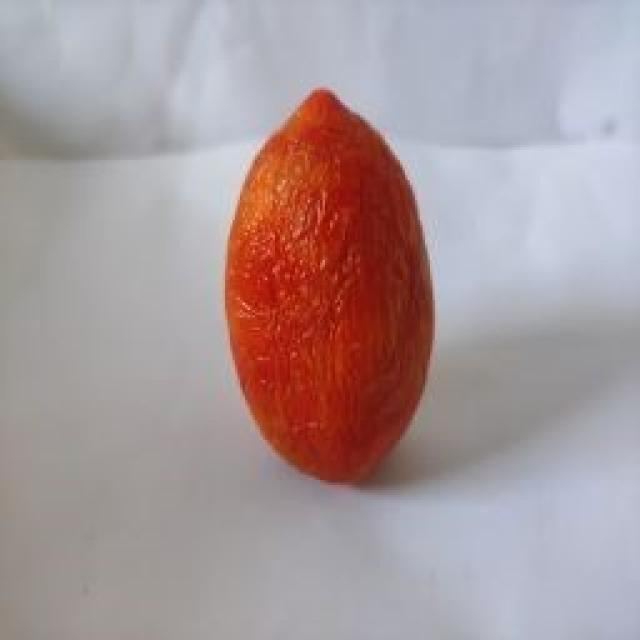overripe: (222, 86, 438, 484)
